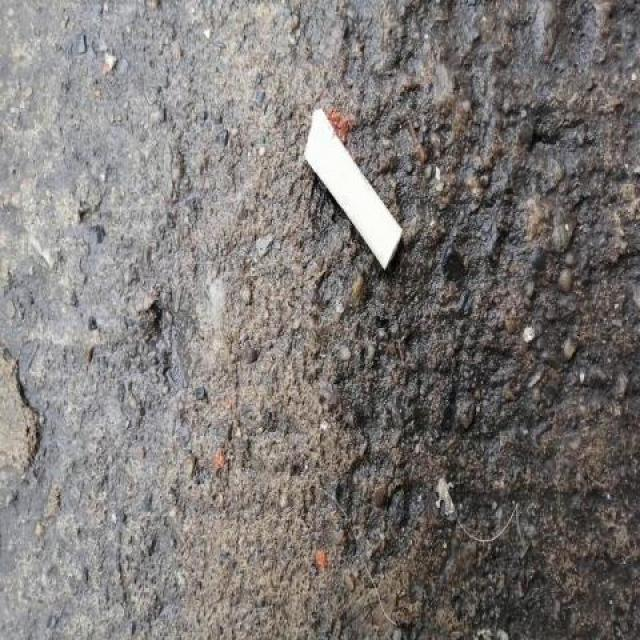non-organic waste: (295, 101, 409, 282)
